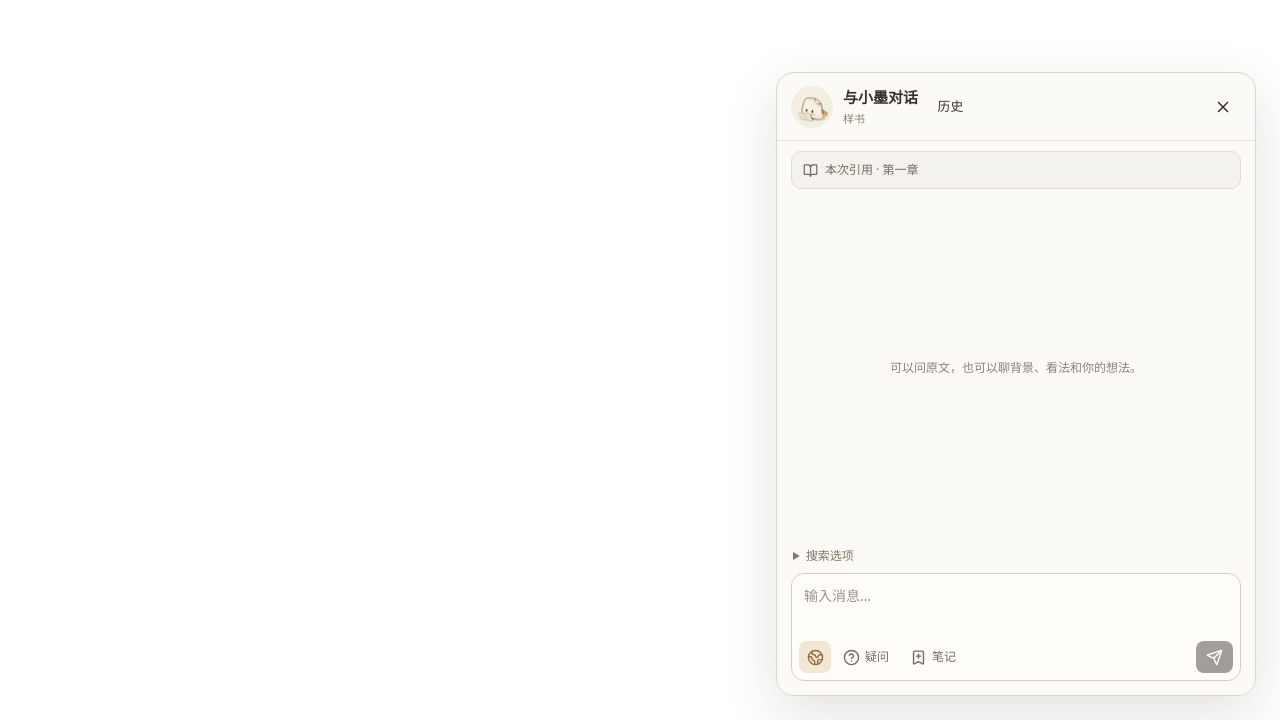
Scenario: 小墨浮动对话 › shows a reversible 疑问 marker instead of saving duplicates
In the text box labelled "输入消息": coordinates (1016, 605) left=792, top=574, right=1240, bottom=636, type "先留在这里。"
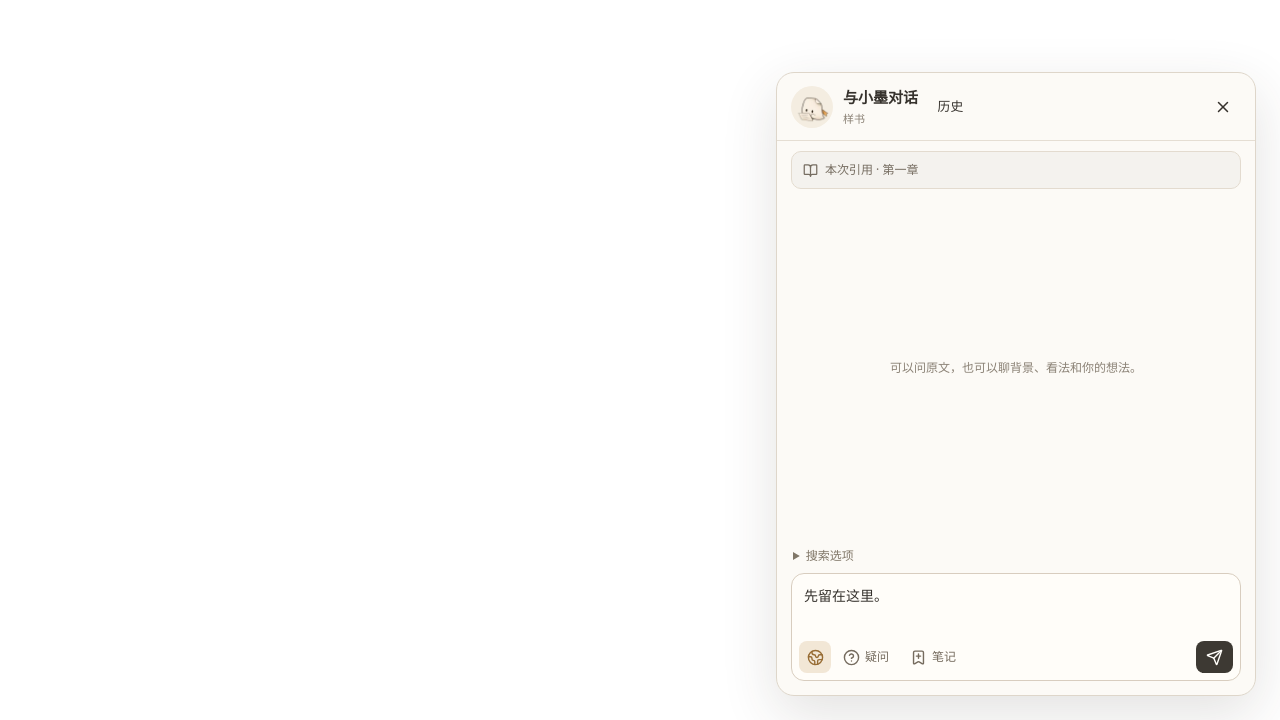
Click the button with aria-label "标记疑问": coordinates (866, 657) left=834, top=641, right=898, bottom=673
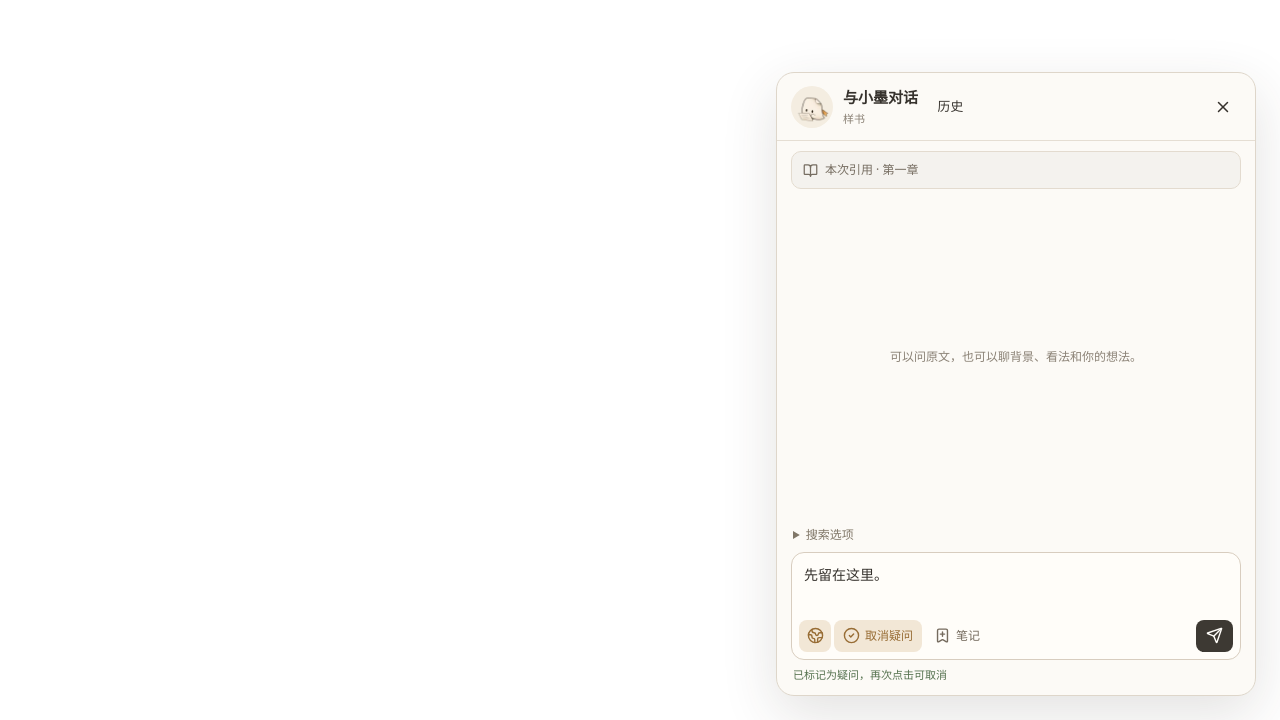
Now the message shows "已标记为疑问", box left=793, top=666, right=947, bottom=682
Click the button with aria-label "取消疑问标记": coordinates (878, 636) left=834, top=620, right=922, bottom=652
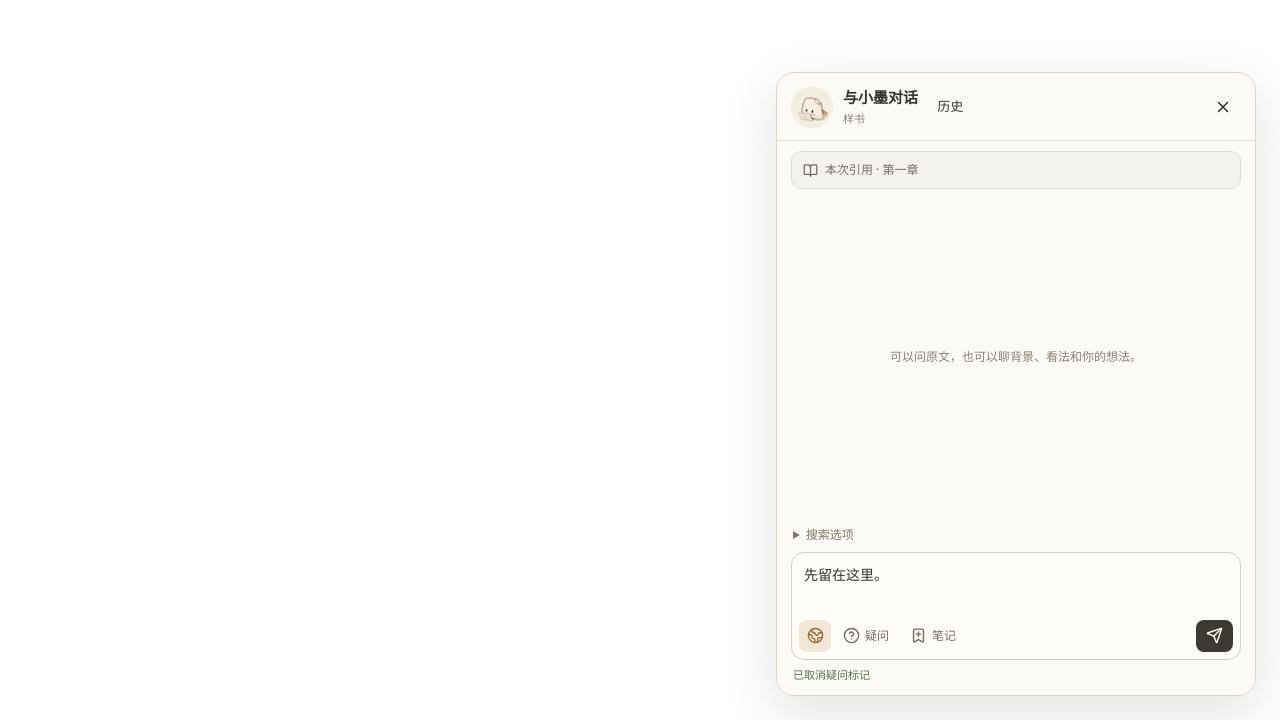
Now the message reads "已取消疑问标记", box left=793, top=666, right=870, bottom=682
